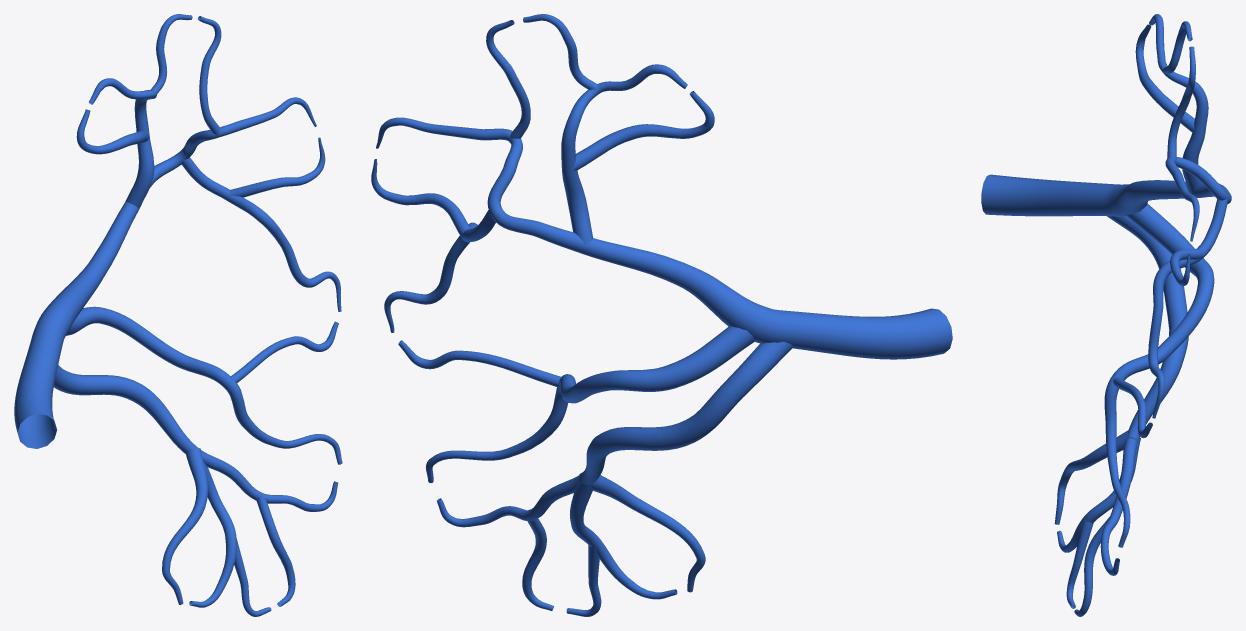
The model's file is circulatorio-intrarenal-veins-of-left-kidney.glb.
3 renders of one model, left to right at view 1: azimuth 30°, elevation 25°; view 2: azimuth 150°, elevation 25°; view 3: azimuth 270°, elevation 25°, orthographic. The views are drawn at different scales.
Parts seen in each view (by area): view 1: Intrarenal veins of left kidney; view 2: Intrarenal veins of left kidney; view 3: Intrarenal veins of left kidney.
Part boxes in pixels (left/top/right/bottom): Intrarenal veins of left kidney: left=14, top=14, right=342, bottom=616; Intrarenal veins of left kidney: left=371, top=14, right=952, bottom=616; Intrarenal veins of left kidney: left=981, top=14, right=1231, bottom=616.
Size of the model in its own units: 0.058 by 0.0773 by 0.0309.
